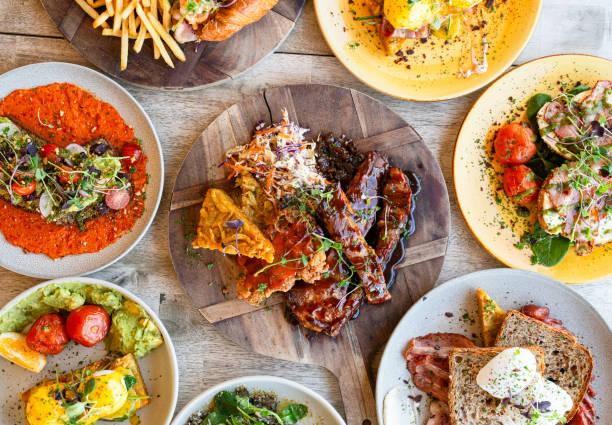Braised Crucian Carp: (169, 81, 450, 370), (4, 62, 165, 279)
